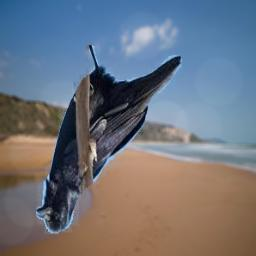Crow: (36, 45, 182, 234)
